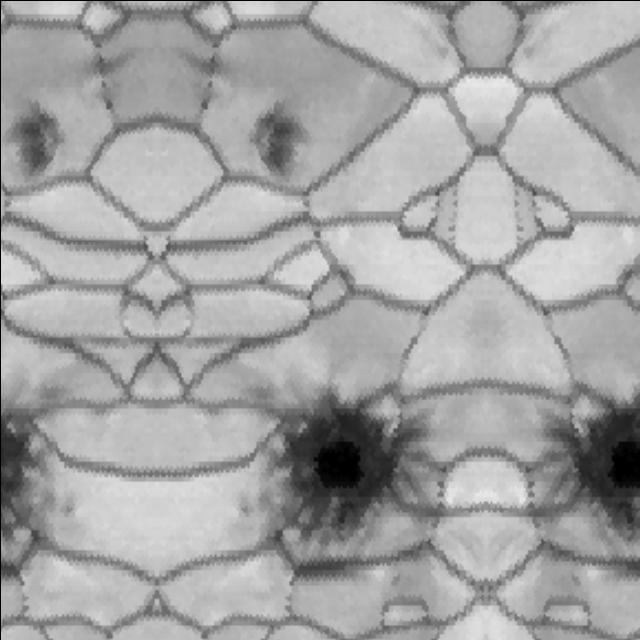good_void: (190, 358, 489, 639), (505, 390, 640, 596), (0, 404, 78, 608), (151, 22, 246, 126), (242, 75, 318, 195), (64, 25, 151, 128), (0, 76, 68, 194)
